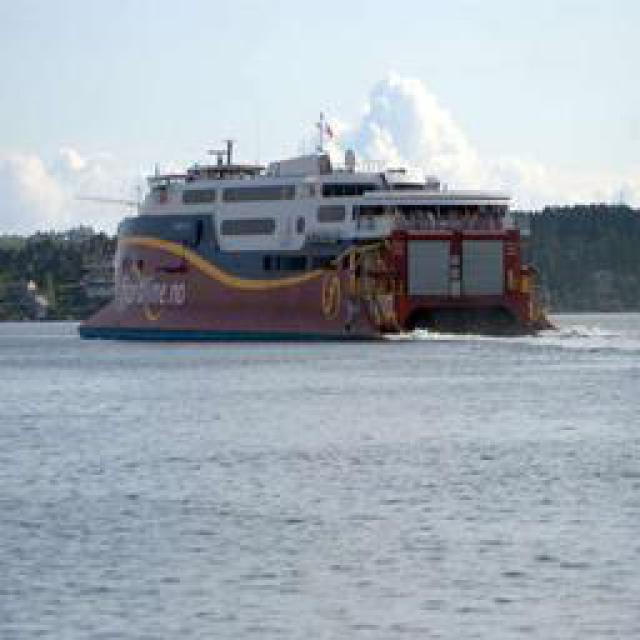Ship: (107, 140, 545, 348)
